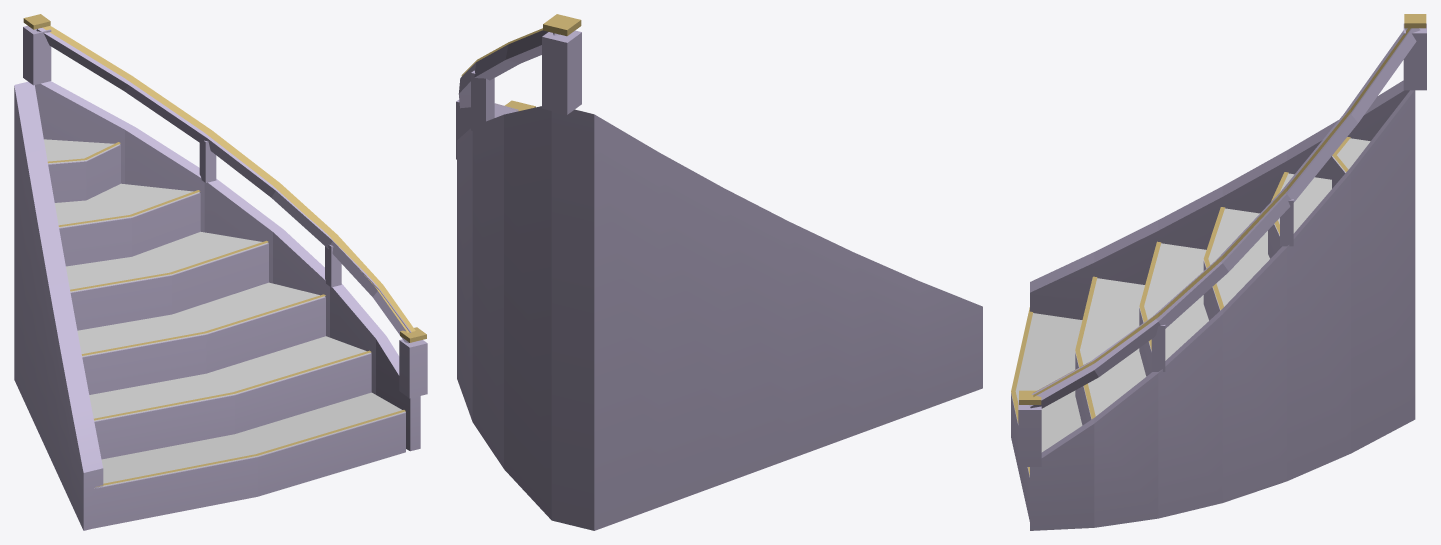
The model's file is stairs.glb.
3 renders of one model, left to right at view 1: azimuth 30°, elevation 25°; view 2: azimuth 150°, elevation 25°; view 3: azimuth 270°, elevation 25°, orthographic. The views are drawn at different scales.
Visible parts, largest first — view 1: root_mesh; view 2: root_mesh; view 3: root_mesh.
Part boxes in pixels (left/top/right/bottom): root_mesh: left=14, top=14, right=427, bottom=530; root_mesh: left=456, top=14, right=982, bottom=530; root_mesh: left=1011, top=14, right=1426, bottom=530.
Bounding box in the file's own units: 2 × 2 × 1.9.
